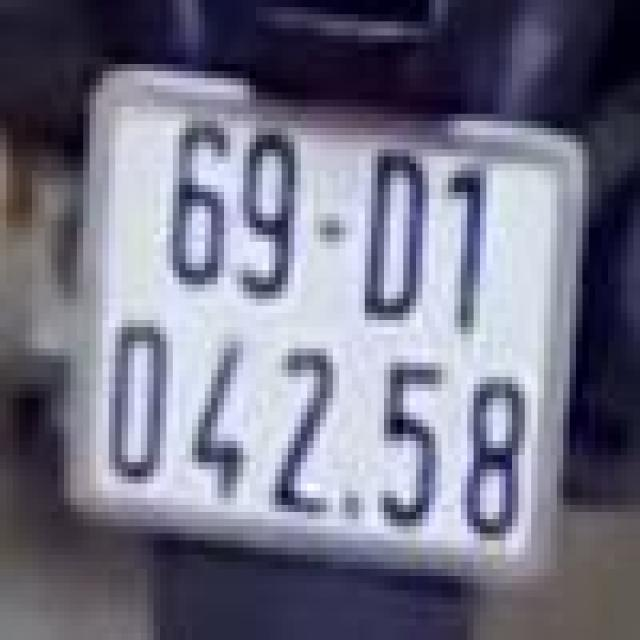0: (93, 298, 176, 491)
1: (438, 160, 496, 338)
2: (266, 334, 342, 519)
4: (179, 324, 256, 508)
5: (358, 338, 448, 551)
6: (154, 114, 230, 292)
8: (454, 362, 532, 548)
9: (230, 114, 301, 313)
D: (352, 124, 422, 330)
